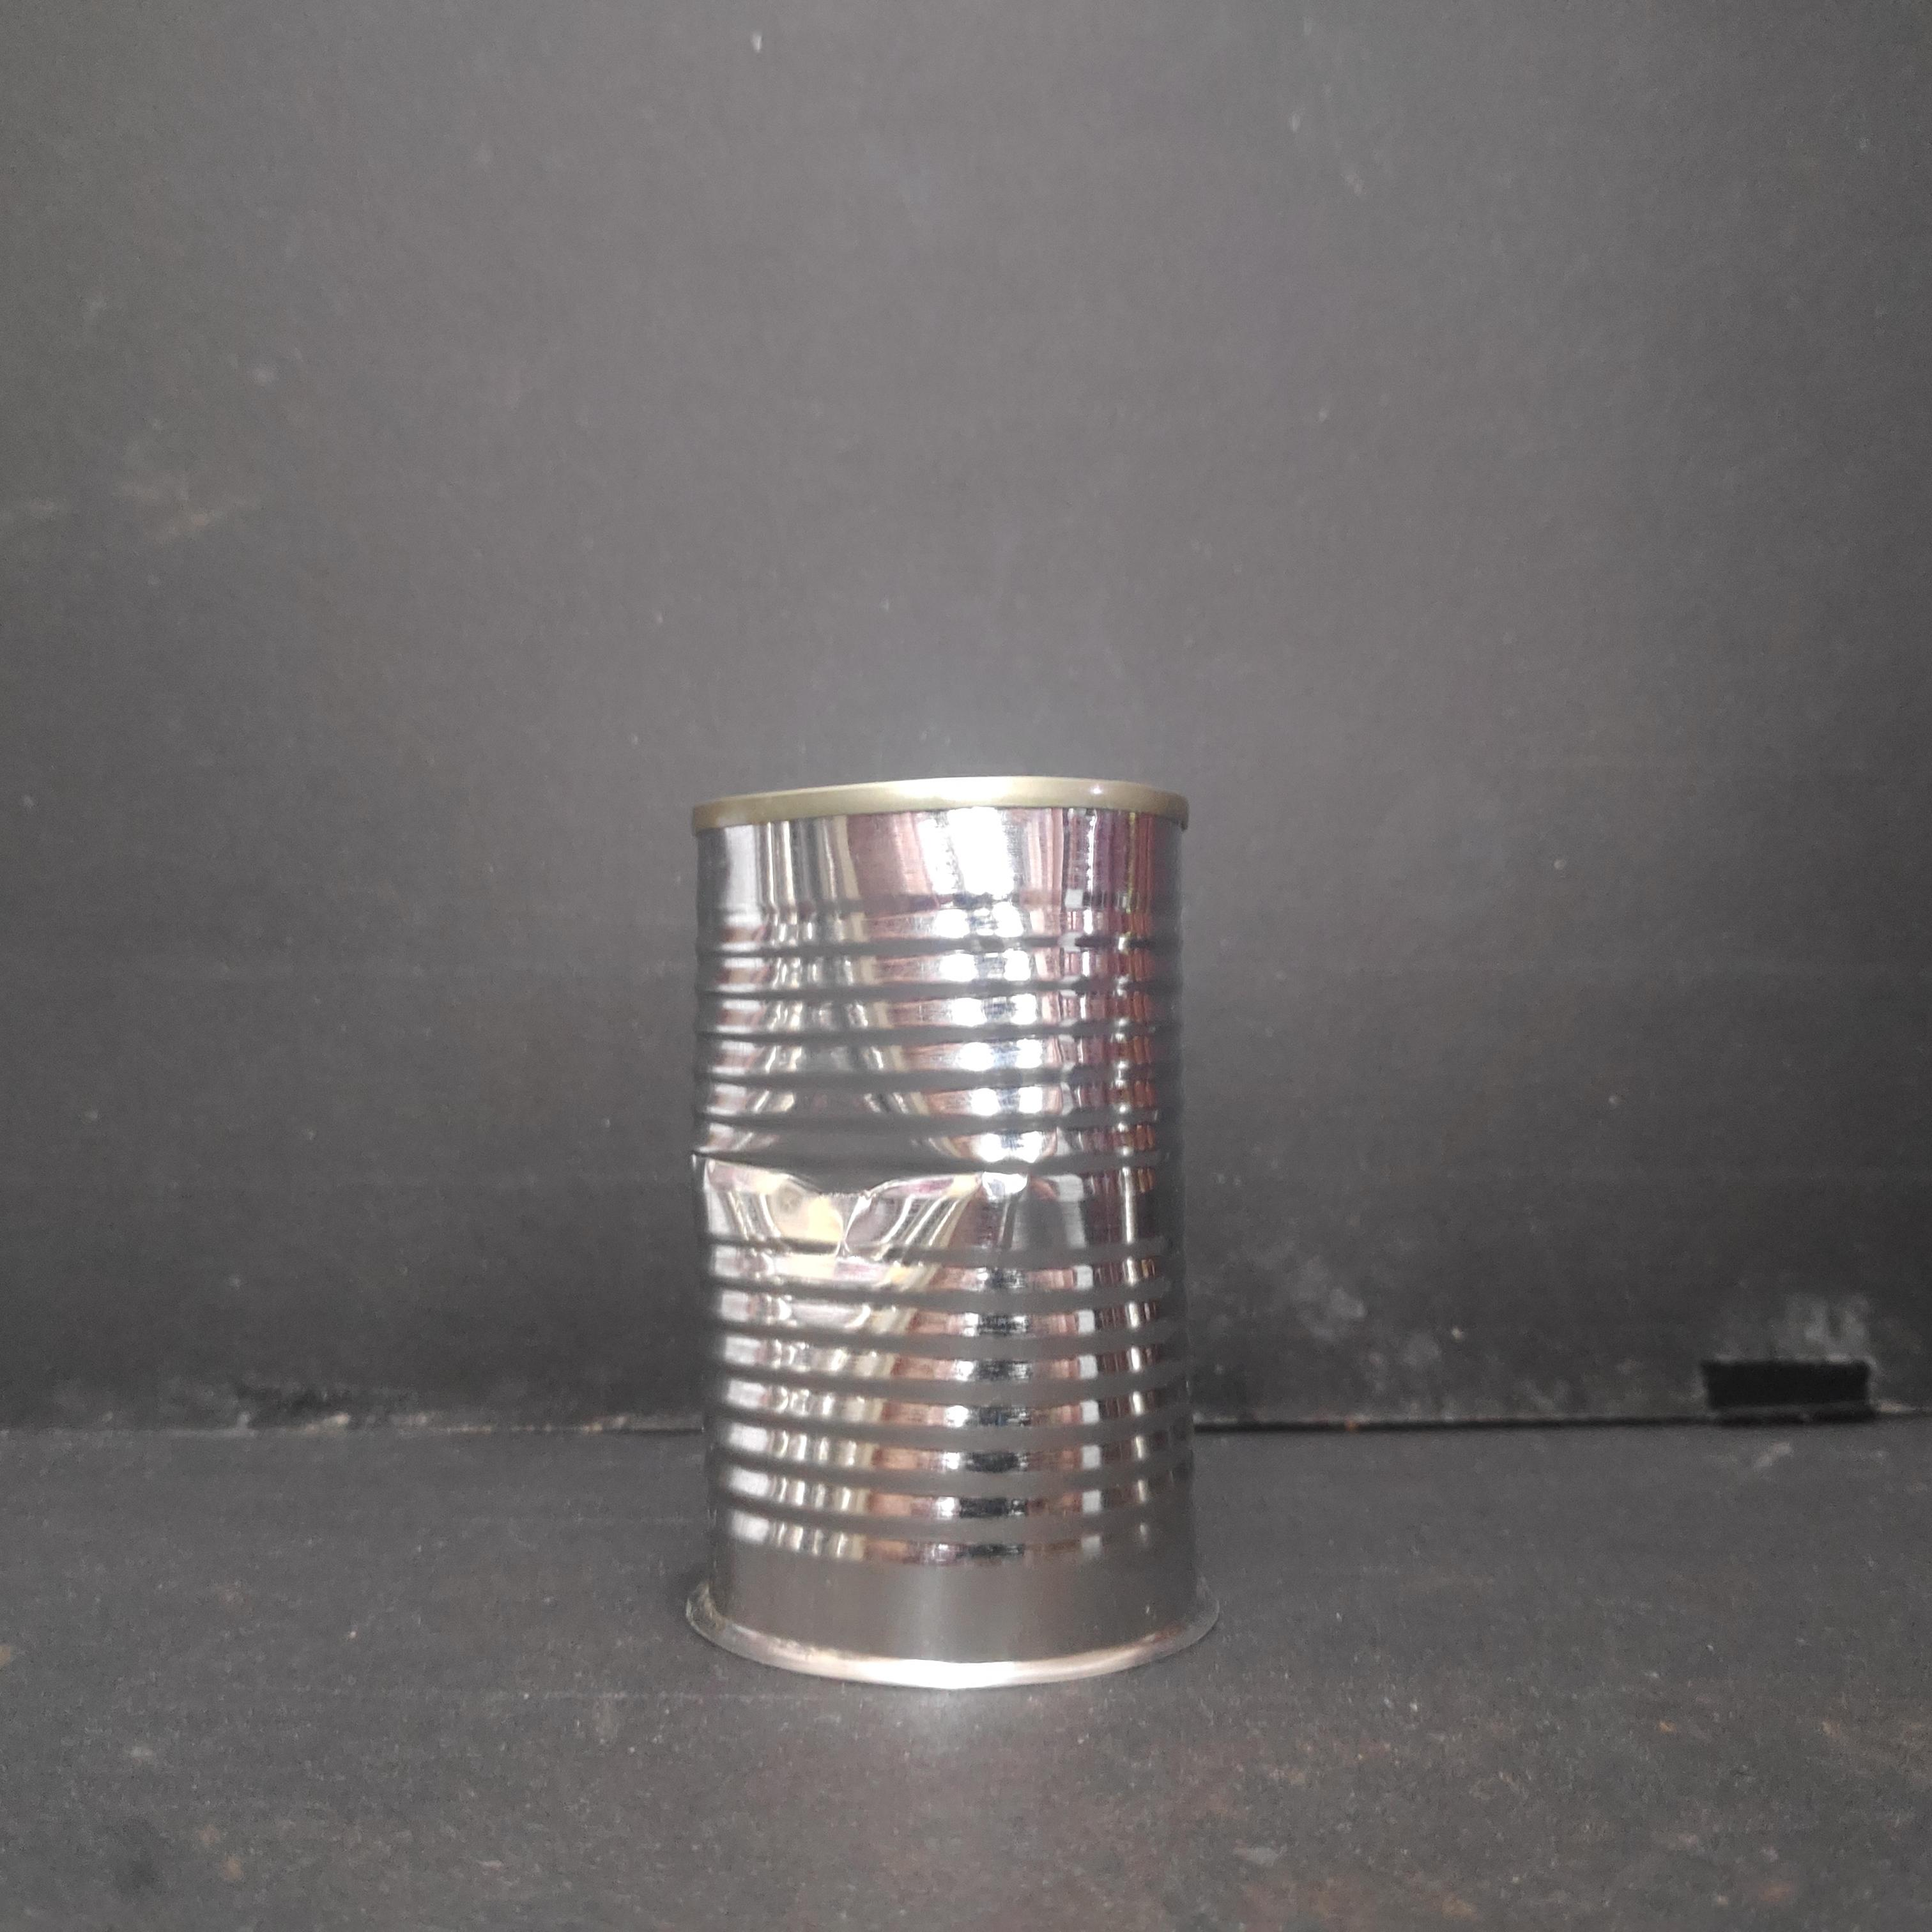Minor Defect: (678, 764, 1215, 1698)
